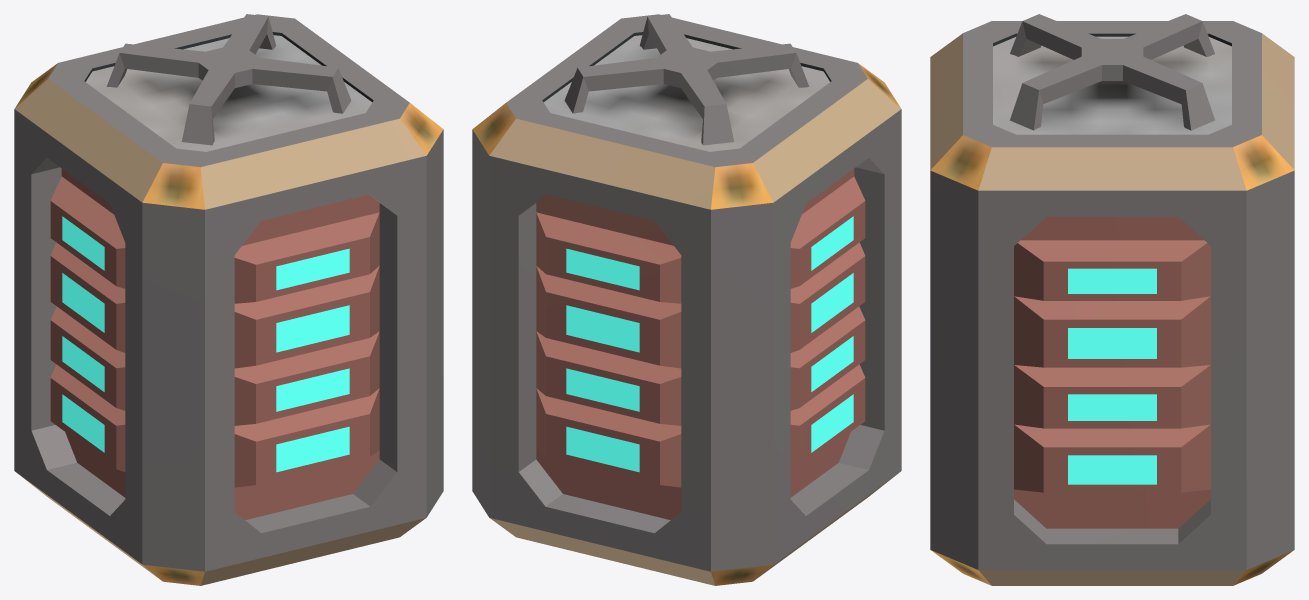
File: entity756186.glb
3 renders of one model, left to right at view 1: azimuth 30°, elevation 25°; view 2: azimuth 150°, elevation 25°; view 3: azimuth 270°, elevation 25°, orthographic. The views are drawn at different scales.
Parts seen in each view (by area): view 1: node_SM_Prop_Crate_02 (8), node_SM_Prop_Crate_02_Lid_01; view 2: node_SM_Prop_Crate_02 (8), node_SM_Prop_Crate_02_Lid_01; view 3: node_SM_Prop_Crate_02 (8), node_SM_Prop_Crate_02_Lid_01.
Part boxes in pixels (<box>): node_SM_Prop_Crate_02 (8): <box>14,14,443,585</box>; node_SM_Prop_Crate_02_Lid_01: <box>86,14,372,151</box>; node_SM_Prop_Crate_02 (8): <box>472,14,901,585</box>; node_SM_Prop_Crate_02_Lid_01: <box>543,14,829,151</box>; node_SM_Prop_Crate_02 (8): <box>930,21,1294,585</box>; node_SM_Prop_Crate_02_Lid_01: <box>993,14,1231,134</box>.
Size of the model in its own units: 0.8429 by 1.2 by 0.8429.
1 material, 1 textured.
